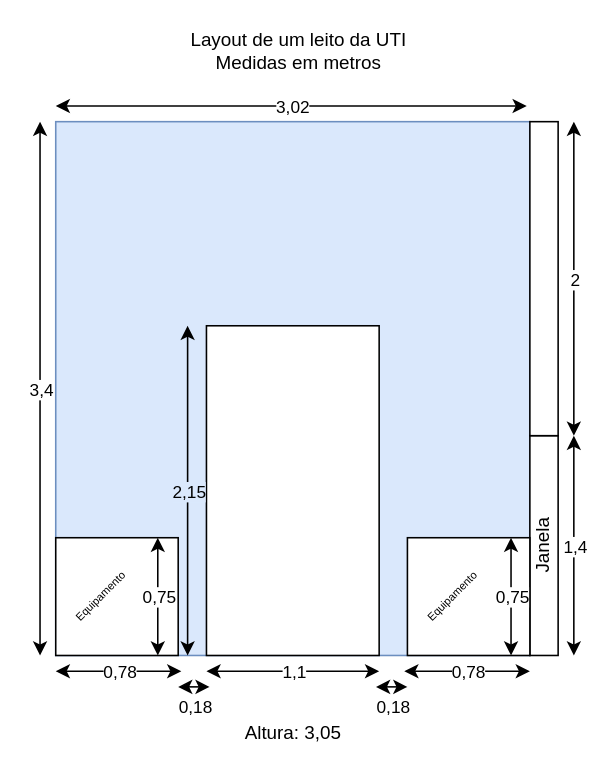
Some shapes in this 615 by 783 pixel diagram are drawn without their labels. The shapes that lost their labels are listed below. From the top down, each one's box as (x1, y1, x2, y2) in pixels, then its label:
(528, 120, 558, 436): Porta
(205, 324, 379, 655): Leito
